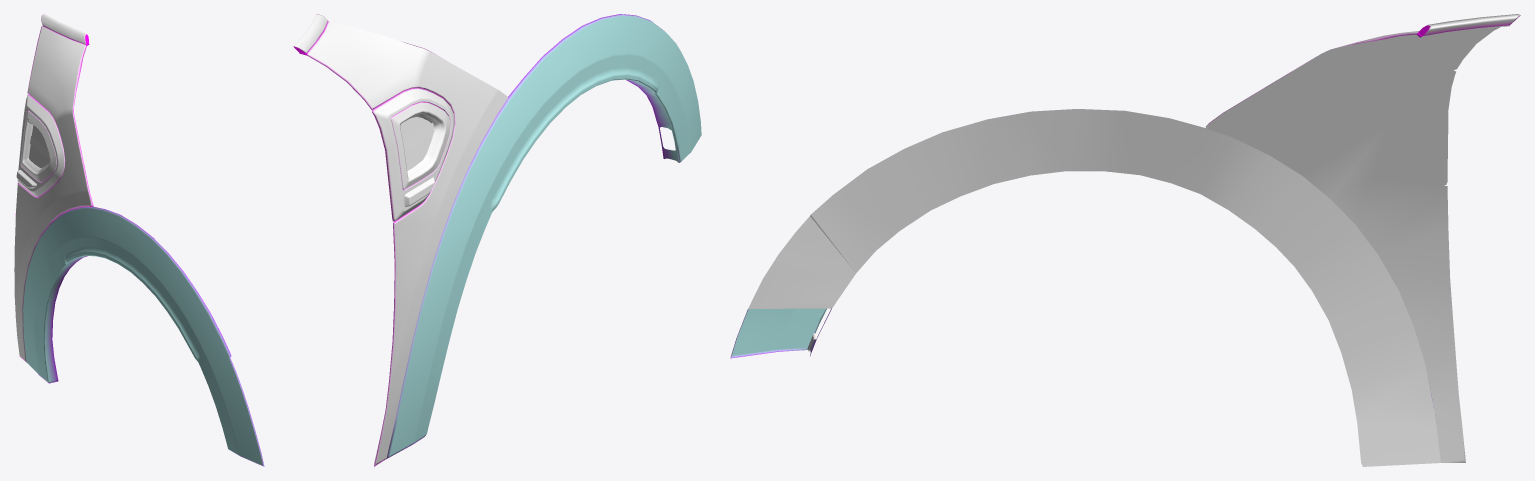
Rendered from Car_Mini_CountrymanJCW_2017_FenderFR_SetA.fbx.
3 renders of one model, left to right at view 1: azimuth 30°, elevation 25°; view 2: azimuth 150°, elevation 25°; view 3: azimuth 270°, elevation 25°, orthographic. The views are drawn at different scales.
Parts seen in each view (by area): view 1: FenderFR 6; view 2: FenderFR 6; view 3: FenderFR 6.
Part boxes in pixels (bbox=[...]): FenderFR 6: bbox=[14, 14, 264, 466]; FenderFR 6: bbox=[293, 14, 701, 466]; FenderFR 6: bbox=[730, 14, 1520, 466].
Bounding box in the file's own units: 0.1963 × 0.7508 × 1.12.
